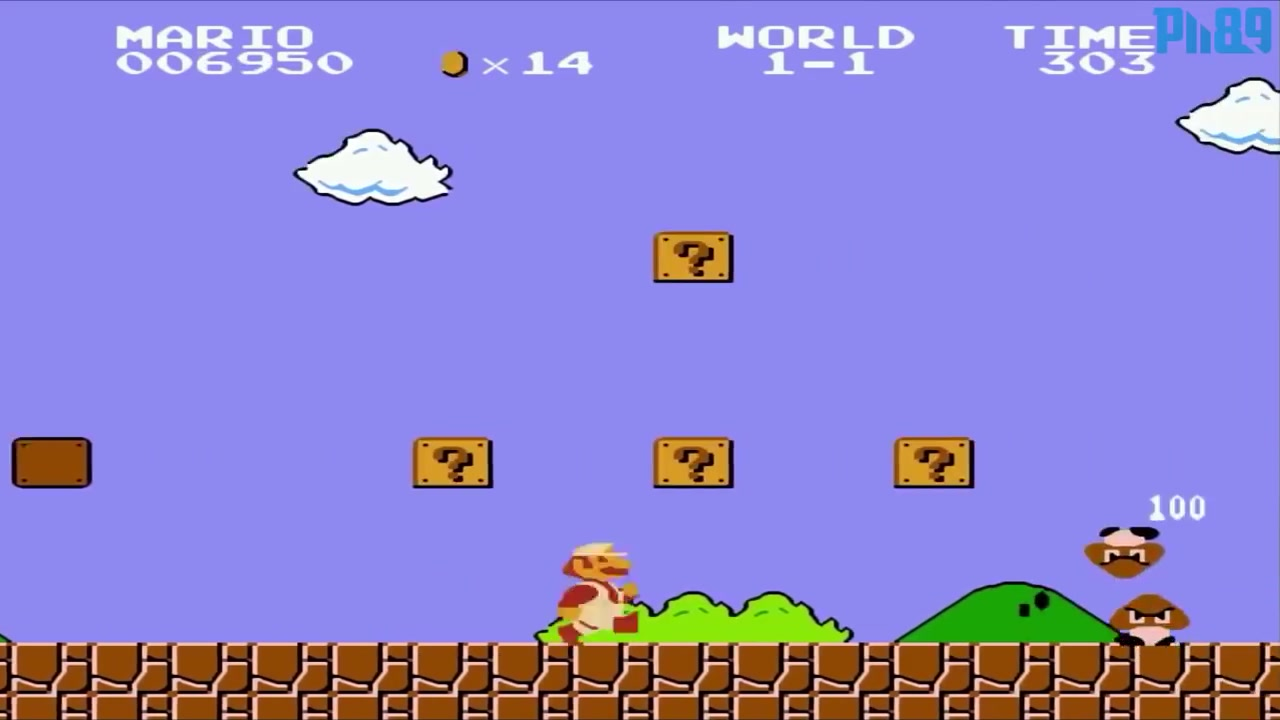mario: (551, 529, 652, 647)
